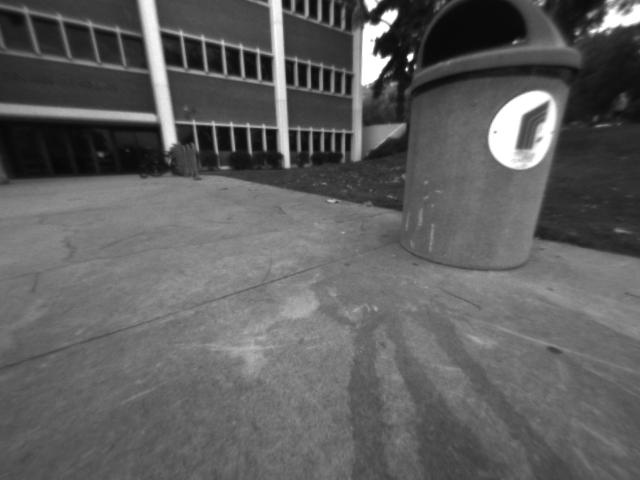trashcan: (385, 3, 571, 282)
